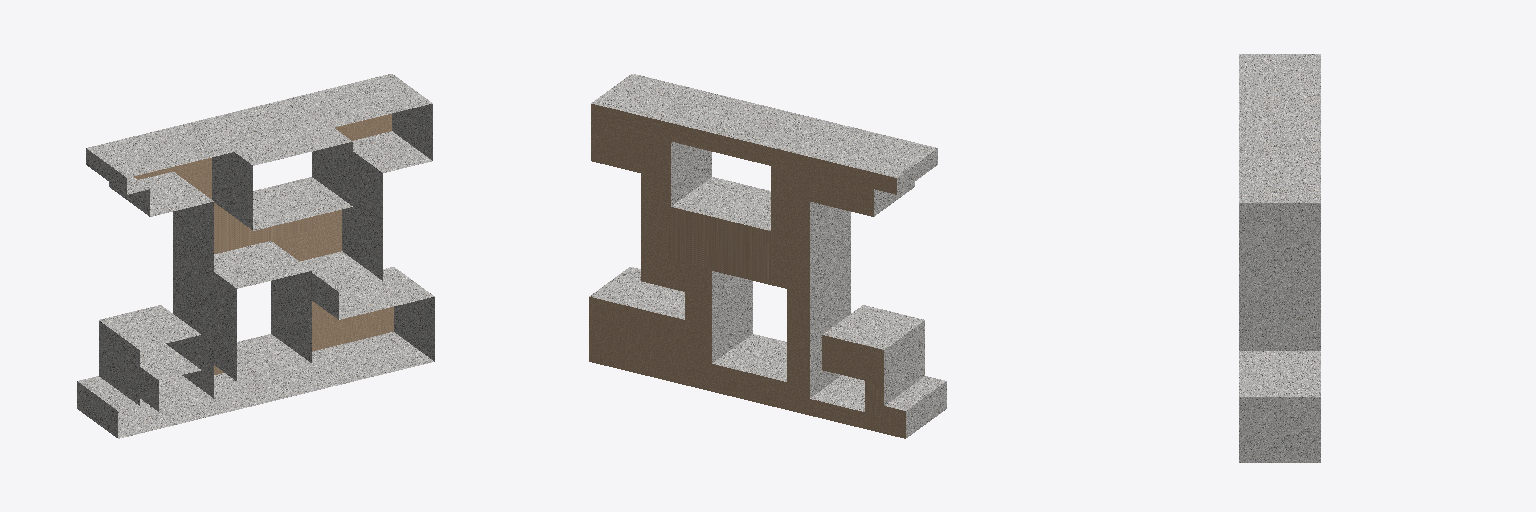
3 renders of one model, left to right at view 1: azimuth 30°, elevation 25°; view 2: azimuth 150°, elevation 25°; view 3: azimuth 270°, elevation 25°, orthographic.
Visible parts, largest first — view 1: walls, floors; view 2: floors, walls; view 3: walls.
Part boxes in pixels (x1,y1,x2,y2): walls: (77,74,434,438); floors: (134,114,393,374); floors: (589,104,905,438); walls: (589,74,946,437); walls: (1239,54,1320,462).
Bounding box in the file's own units: 0.6953 × 0.543 × 0.1562.
2 materials, 2 textured.